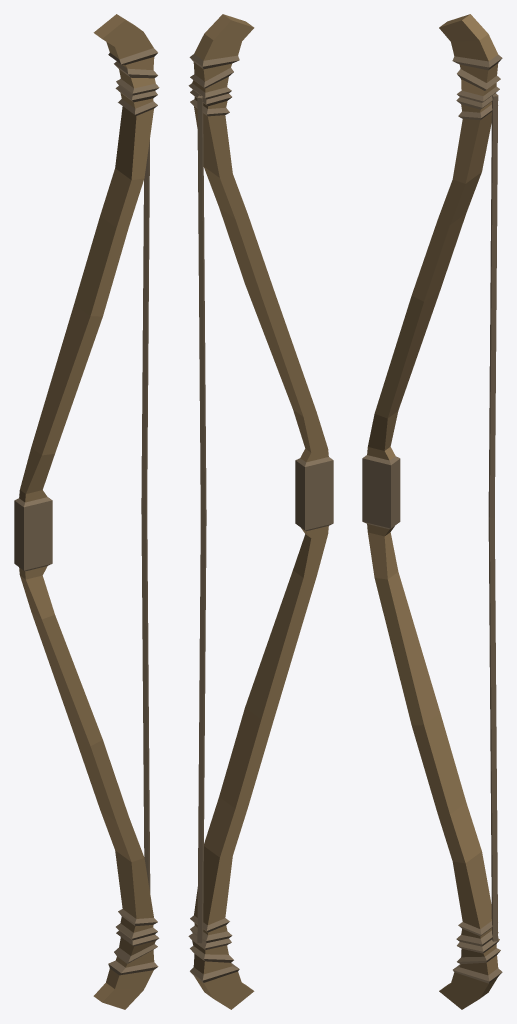
The model's file is SM_pwe_slavic_bow_02.fbx.
3 views of the same model, side by side, from view 1: azimuth 30°, elevation 25°; view 2: azimuth 210°, elevation 25°; view 3: azimuth 330°, elevation 25° (orthographic).
Parts seen in each view (by area): view 1: SM_pwe_slavic_bow_02; view 2: SM_pwe_slavic_bow_02; view 3: SM_pwe_slavic_bow_02.
Boxes of the visible parts, <box> form: SM_pwe_slavic_bow_02: <box>14,14,159,1009</box>; SM_pwe_slavic_bow_02: <box>188,14,333,1009</box>; SM_pwe_slavic_bow_02: <box>362,14,502,1009</box>.
Bounding box in the file's own units: 13.85 × 99.76 × 3.31.
